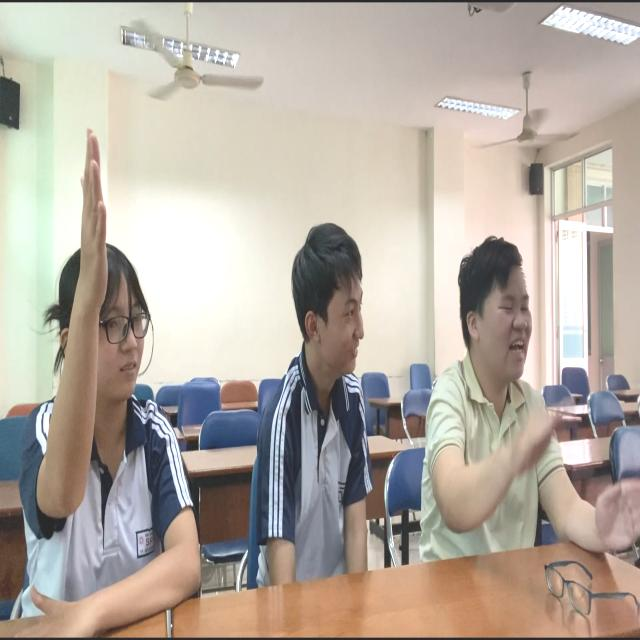raise_hand: (2, 125, 210, 621)
